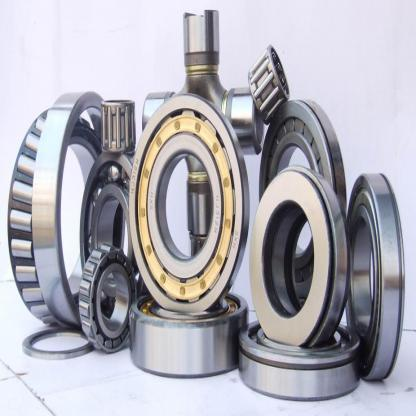FOD: (126, 90, 251, 320), (249, 163, 352, 350), (344, 164, 408, 386), (258, 84, 349, 228), (127, 279, 250, 377), (236, 312, 362, 403), (78, 149, 144, 278), (247, 35, 289, 124)
